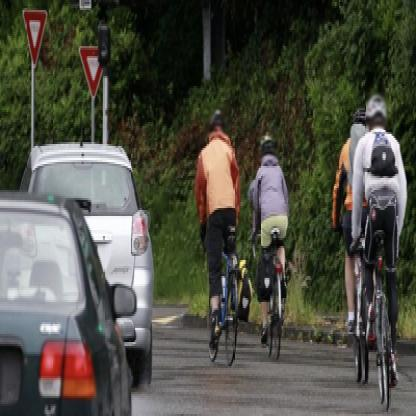Helmet: (207, 108, 229, 143), (258, 133, 281, 165), (366, 95, 389, 125), (354, 104, 366, 124)
